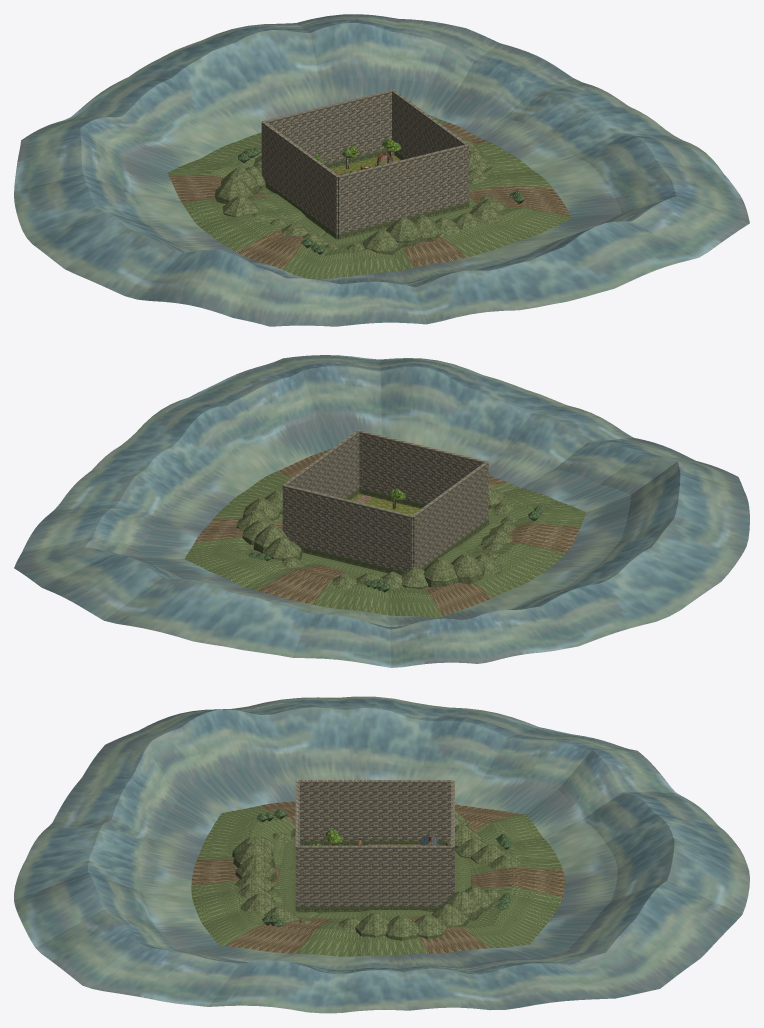
File: SwallowLock.fbx
The picture shows the model from 3 angles, top to bottom: view 1: azimuth 30°, elevation 25°; view 2: azimuth 150°, elevation 25°; view 3: azimuth 270°, elevation 25°; orthographic projection. The views are drawn at different scales.
Parts seen in each view (by area): view 1: Surroundings, C_Solids, Horizon, Rim, Set; view 2: Surroundings, C_Solids, Horizon, Rim, Terrain; view 3: Surroundings, C_Solids, Horizon, Rim.
Part boxes in pixels (x1=…): Surroundings: x1=14, y1=14, x2=749, y2=326; C_Solids: x1=261, y1=89, x2=468, y2=233; Horizon: x1=215, y1=139, x2=506, y2=255; Rim: x1=264, y1=149, x2=469, y2=239; Set: x1=314, y1=138, x2=401, y2=175; Surroundings: x1=14, y1=355, x2=749, y2=667; C_Solids: x1=282, y1=430, x2=488, y2=571; Horizon: x1=236, y1=484, x2=517, y2=589; Rim: x1=298, y1=488, x2=488, y2=574; Terrain: x1=350, y1=493, x2=420, y2=515; Surroundings: x1=14, y1=696, x2=749, y2=1013; C_Solids: x1=295, y1=780, x2=454, y2=905; Horizon: x1=232, y1=810, x2=521, y2=940; Rim: x1=295, y1=840, x2=451, y2=912.
Bounding box in the file's own units: 19136 × 2300 × 19410.
